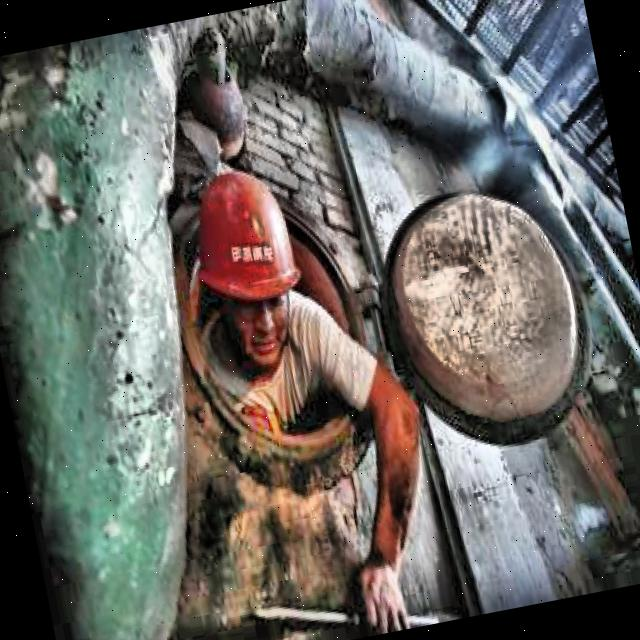helmet: (171, 148, 327, 384)
